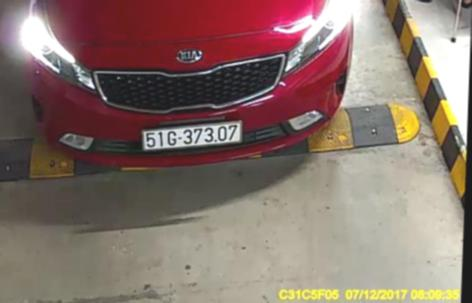License_Plate: (138, 122, 245, 151)
